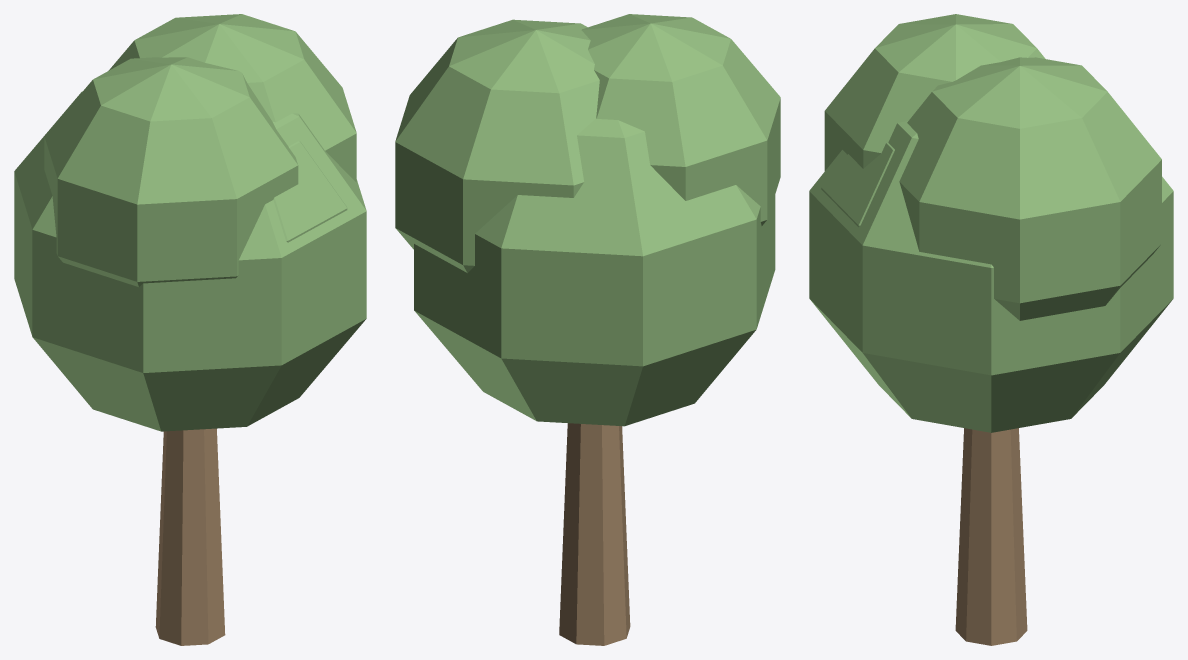
The model's file is tree.glb.
3 renders of one model, left to right at view 1: azimuth 30°, elevation 25°; view 2: azimuth 150°, elevation 25°; view 3: azimuth 270°, elevation 25°, orthographic. The views are drawn at different scales.
Visible parts, largest first — view 1: TreeCanopy, TreeCanopy.002, TreeCanopy.001, TreeTrunk, TreeCanopy.003; view 2: TreeCanopy, TreeCanopy.001, TreeCanopy.002, TreeTrunk; view 3: TreeCanopy.001, TreeCanopy, TreeCanopy.002, TreeTrunk, TreeCanopy.003.
Boxes of the visible parts, left/top/right/bottom form: TreeCanopy: left=14, top=91, right=366, bottom=431; TreeCanopy.002: left=44, top=57, right=298, bottom=286; TreeCanopy.001: left=108, top=14, right=356, bottom=182; TreeTrunk: left=155, top=428, right=225, bottom=645; TreeCanopy.003: left=273, top=141, right=347, bottom=242; TreeCanopy: left=414, top=118, right=775, bottom=426; TreeCanopy.001: left=395, top=19, right=599, bottom=272; TreeCanopy.002: left=581, top=14, right=780, bottom=225; TreeTrunk: left=559, top=423, right=630, bottom=645; TreeCanopy.001: left=899, top=57, right=1161, bottom=320; TreeCanopy: left=809, top=121, right=1173, bottom=432; TreeCanopy.002: left=824, top=14, right=1045, bottom=170; TreeTrunk: left=955, top=428, right=1027, bottom=645; TreeCanopy.003: left=821, top=142, right=894, bottom=227.
Size of the model in its own units: 2.64 by 4.57 by 2.57.
